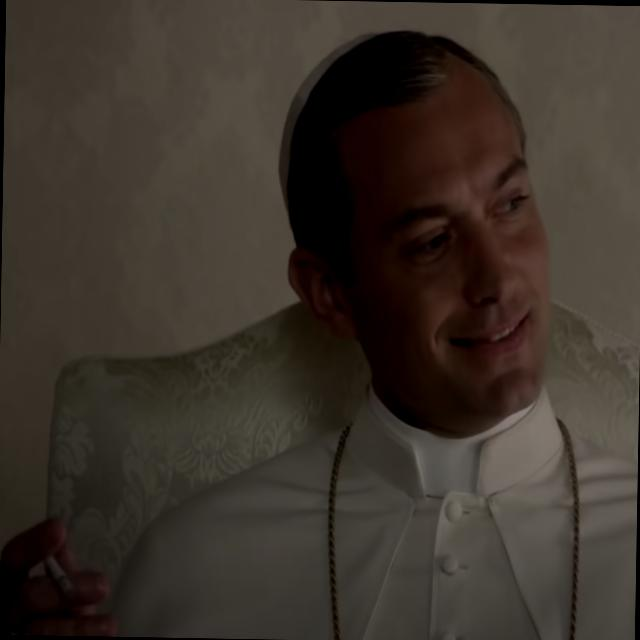cigarette: (40, 554, 84, 624)
